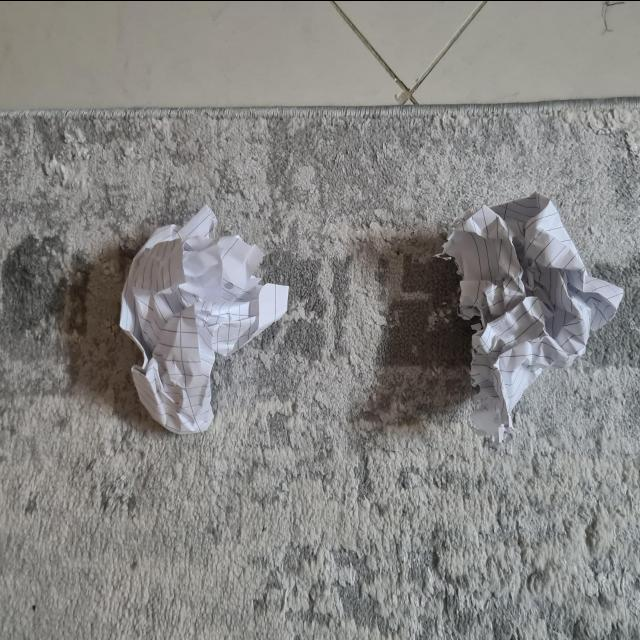kertas: (438, 189, 620, 409), (118, 215, 278, 432)
